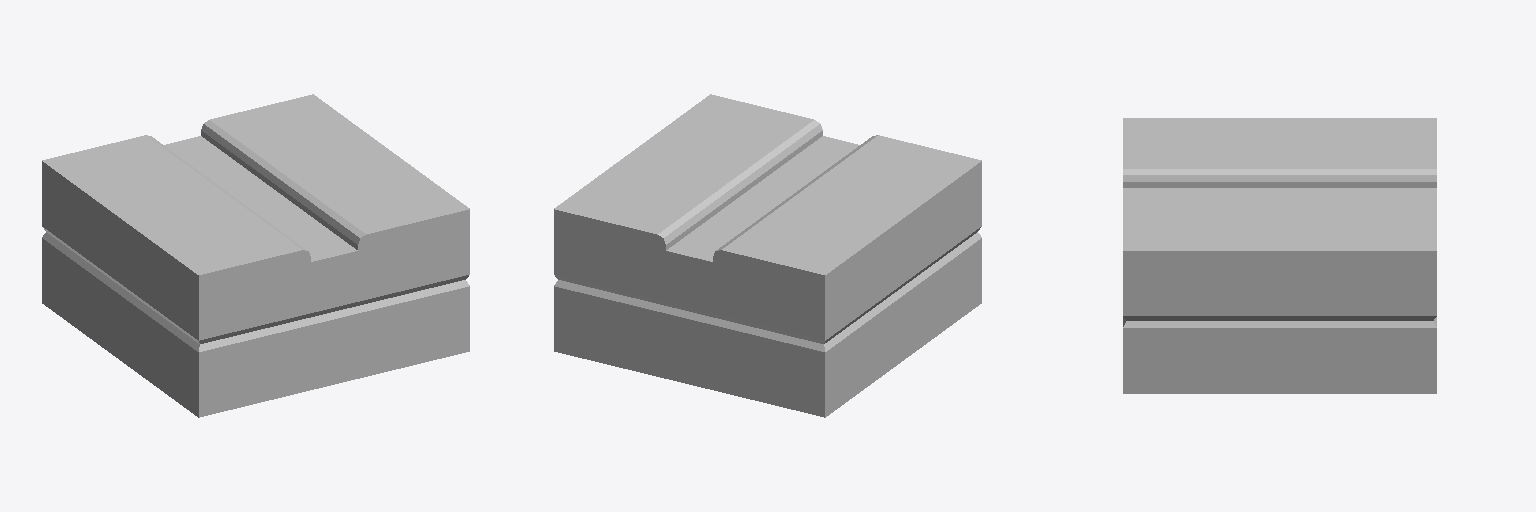
Rendered from square_rock_roadB_detail.obj.
The picture shows the model from 3 angles: view 1: azimuth 30°, elevation 25°; view 2: azimuth 150°, elevation 25°; view 3: azimuth 270°, elevation 25°; orthographic projection.
Visible parts, largest first — view 1: square_rock_roadB_detail_Cube.322; view 2: square_rock_roadB_detail_Cube.322; view 3: square_rock_roadB_detail_Cube.322.
Boxes of the visible parts, <box> form: square_rock_roadB_detail_Cube.322: <box>42,94,469,417</box>; square_rock_roadB_detail_Cube.322: <box>554,94,981,417</box>; square_rock_roadB_detail_Cube.322: <box>1123,118,1436,393</box>.
Size of the model in its own units: 2 by 1 by 2.